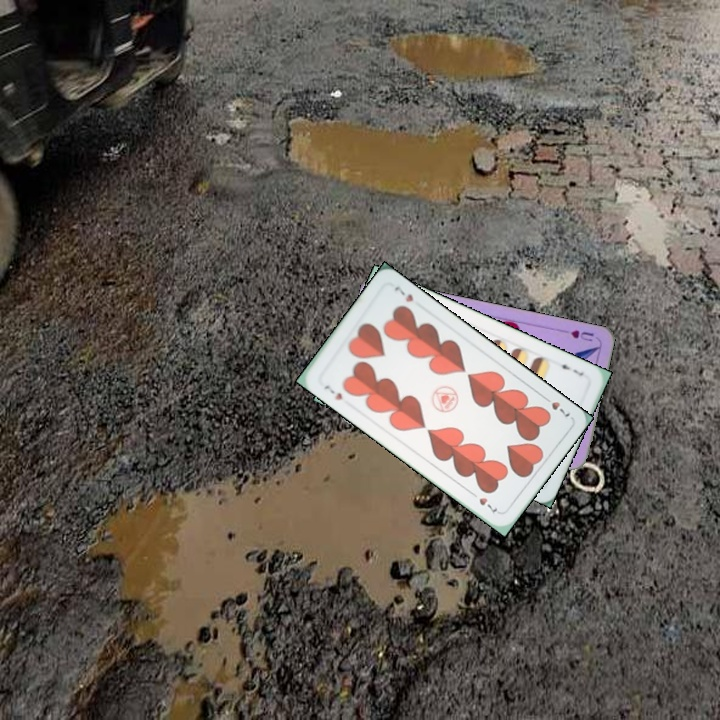E7: (554, 358, 586, 379)
H7: (538, 391, 573, 420), (320, 380, 345, 403)
HU: (567, 326, 596, 344)
